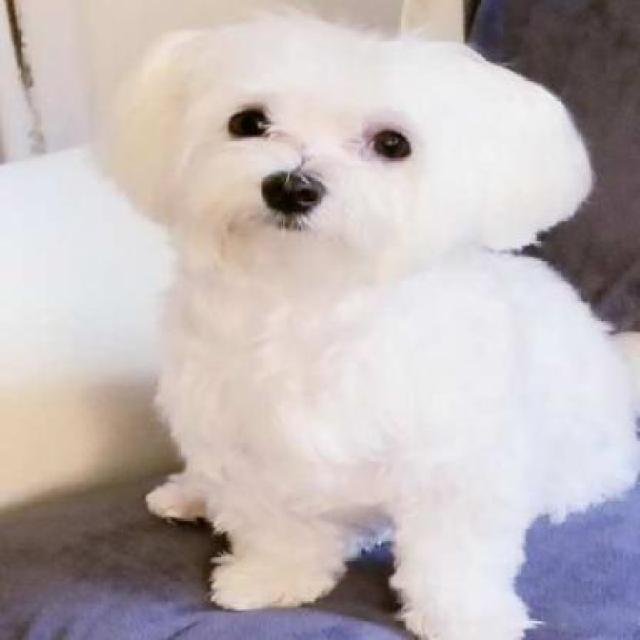Dog: (90, 3, 638, 639)
